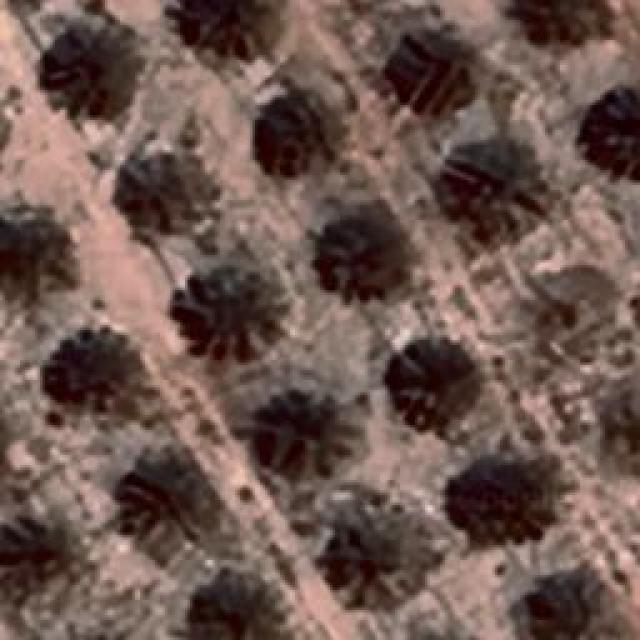PalmTree: (328, 510, 442, 602), (48, 26, 140, 116), (244, 402, 352, 476), (514, 570, 628, 640), (384, 340, 474, 428), (127, 458, 210, 552), (170, 262, 268, 340), (450, 149, 540, 229), (186, 0, 286, 70), (311, 212, 404, 286), (124, 151, 212, 229), (465, 454, 545, 538), (271, 84, 341, 178), (400, 34, 475, 118), (50, 335, 130, 410), (194, 577, 277, 640), (0, 522, 62, 605), (0, 215, 65, 288), (587, 84, 640, 167), (524, 0, 612, 48)
